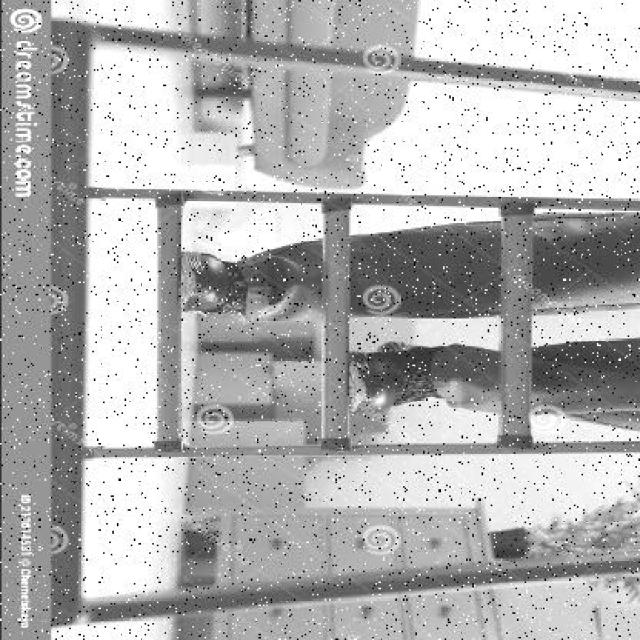shoes: (345, 335, 446, 420), (167, 239, 248, 319)
